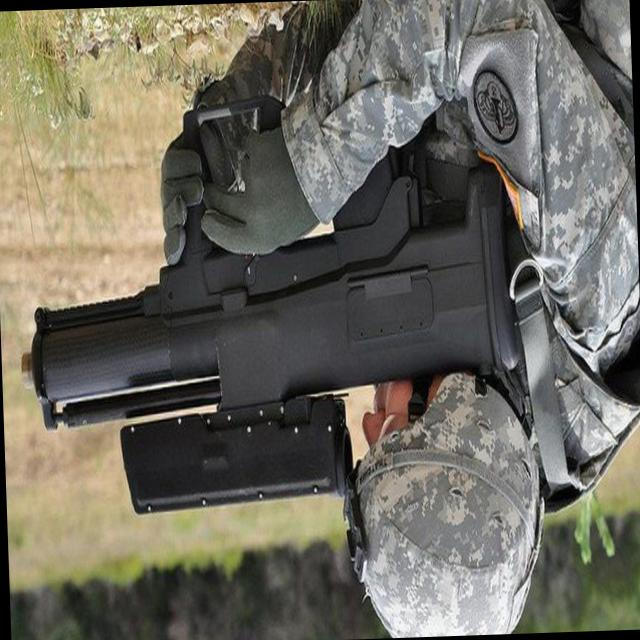Weapon: (7, 101, 540, 530)
